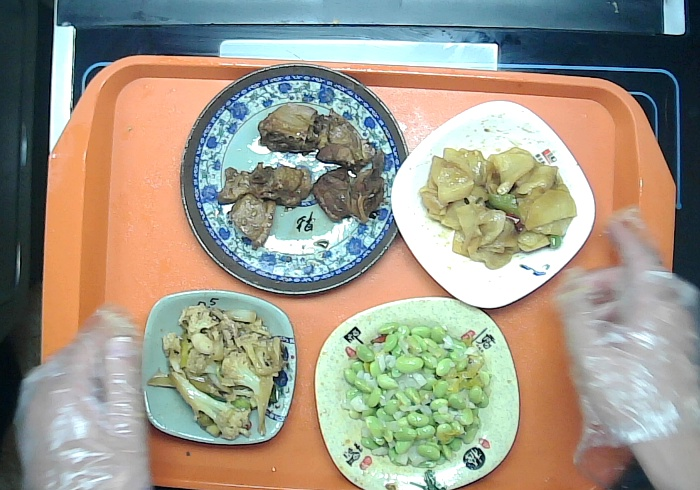NLDX-Bai_Se_Xiao_Fang_Die: (391, 99, 596, 309)
NLDX-Fu_Zi_Fang_Die: (313, 297, 521, 490)
NLDX-Qing_Hua_Xiao_Fang_Die: (139, 288, 298, 445)
NLDX-Qing_Hua_Yuan_Die: (182, 64, 411, 296)
